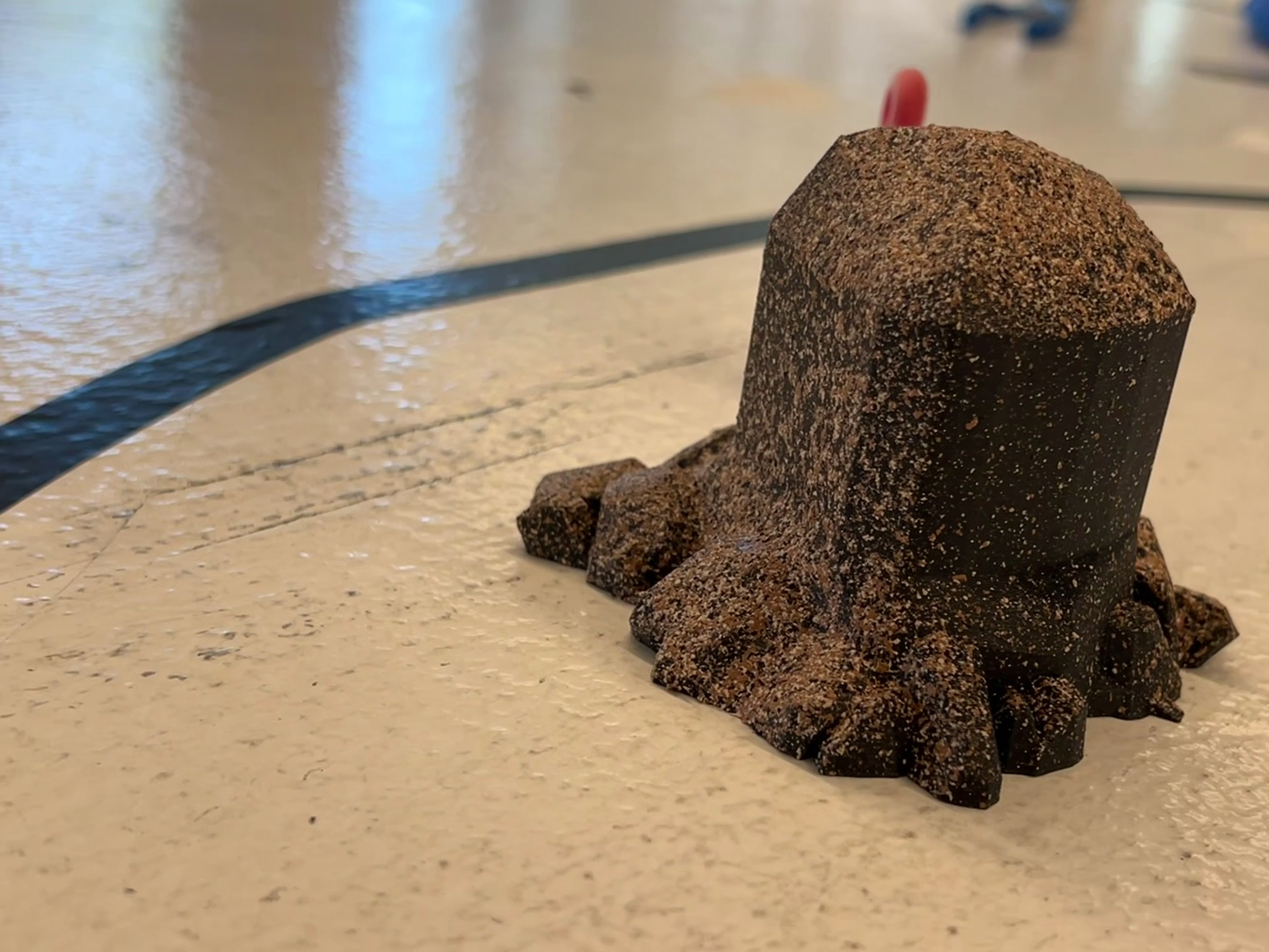teletubby: (882, 69, 927, 126)
